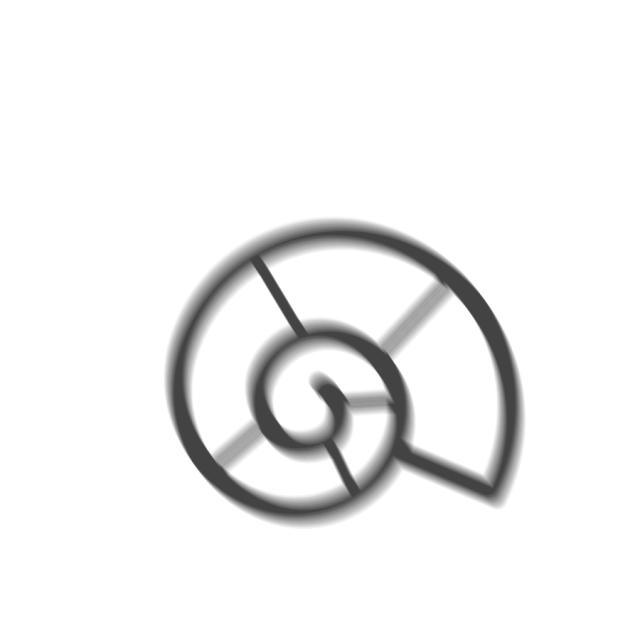fossil: (161, 214, 532, 536)
